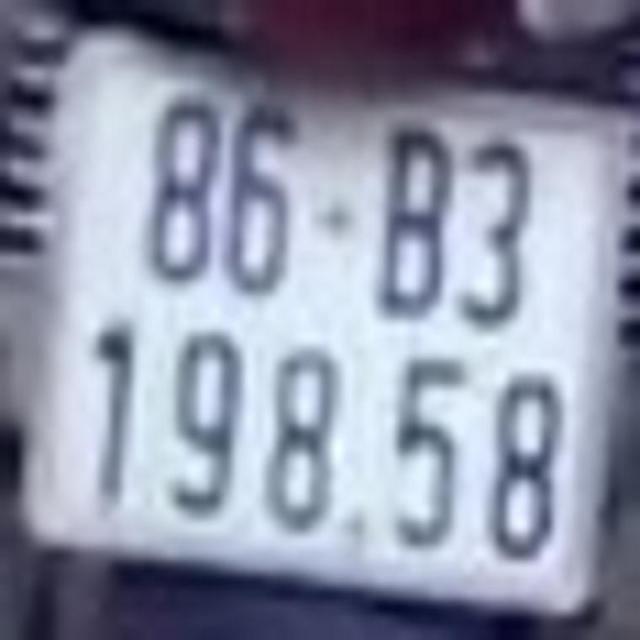1: (85, 321, 135, 512)
3: (463, 132, 524, 334)
5: (395, 354, 457, 544)
6: (231, 103, 292, 298)
8: (491, 367, 558, 562), (268, 341, 334, 536), (154, 98, 217, 285)
9: (176, 324, 240, 516)
B: (386, 122, 443, 320)
